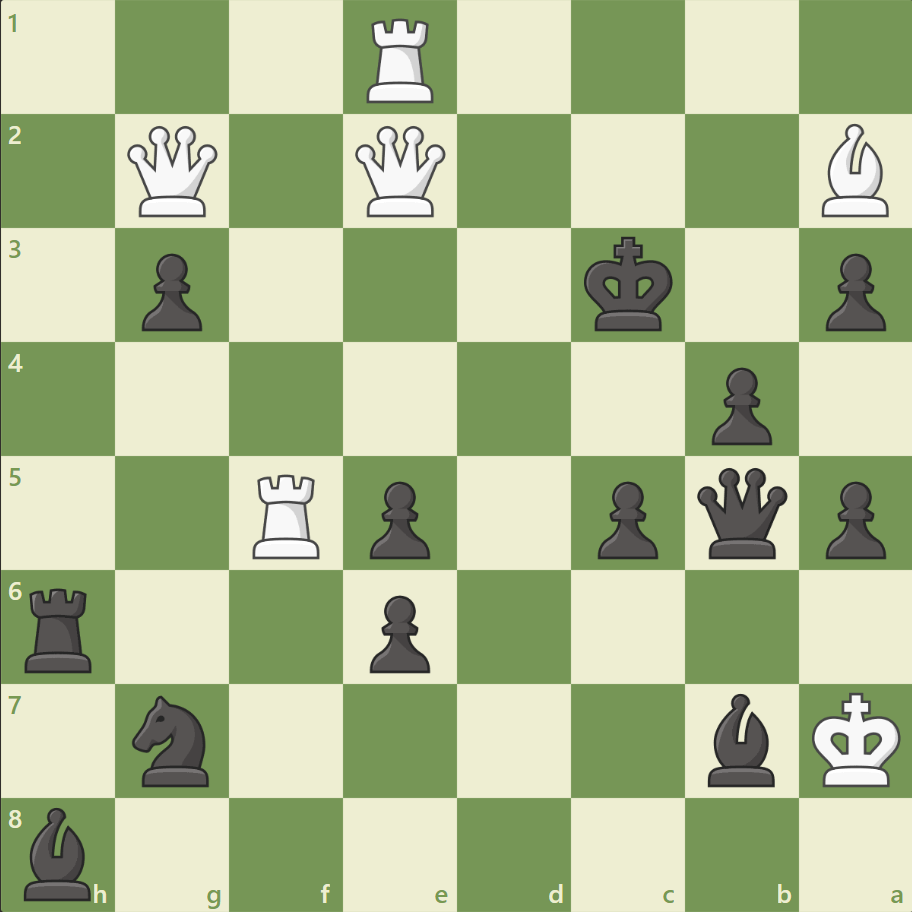B: (812, 120, 896, 222)
K: (806, 685, 906, 793)
Q: (351, 122, 450, 222), (124, 122, 223, 222)
R: (246, 466, 329, 563), (360, 12, 442, 109)
b: (17, 801, 101, 904), (698, 687, 782, 790)
k: (579, 231, 679, 339)
n: (124, 688, 222, 791)
p: (701, 359, 776, 450), (133, 246, 208, 337), (361, 586, 435, 677), (815, 473, 889, 564), (588, 473, 662, 564), (361, 473, 435, 564), (815, 246, 889, 337)
q: (691, 463, 790, 562)
r: (19, 579, 102, 676)
